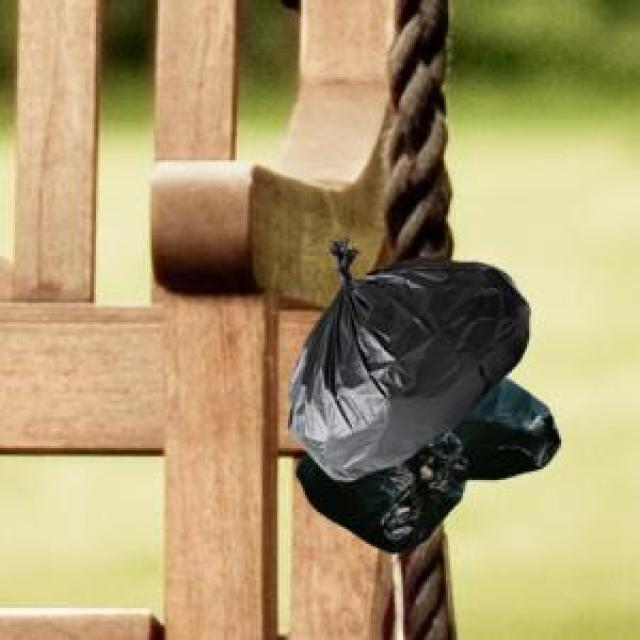waste: (291, 259, 560, 552)
